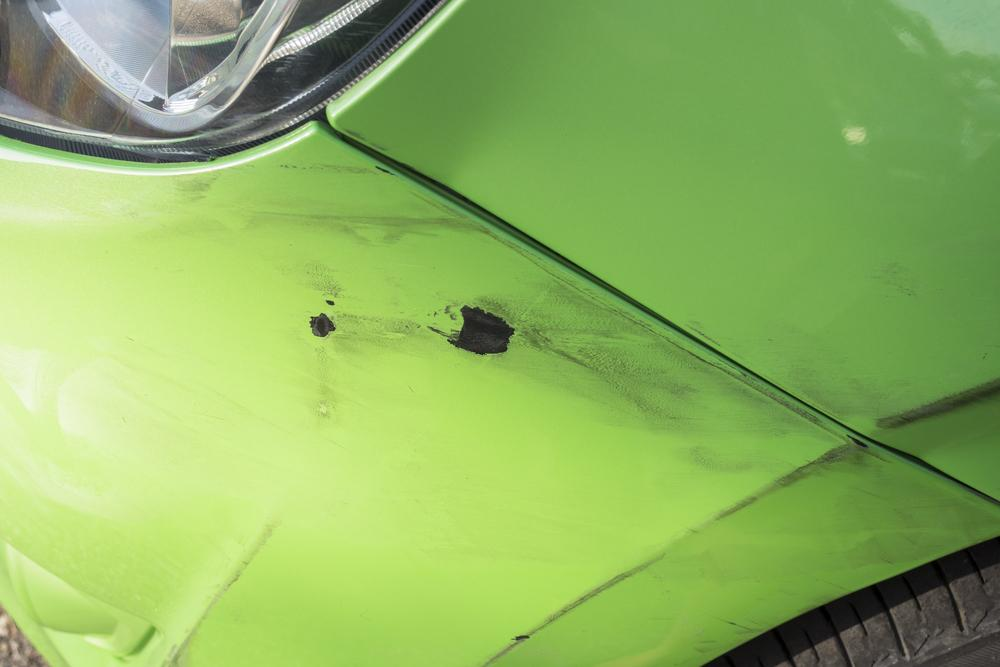scratch: (180, 159, 896, 667), (756, 317, 1000, 433)
